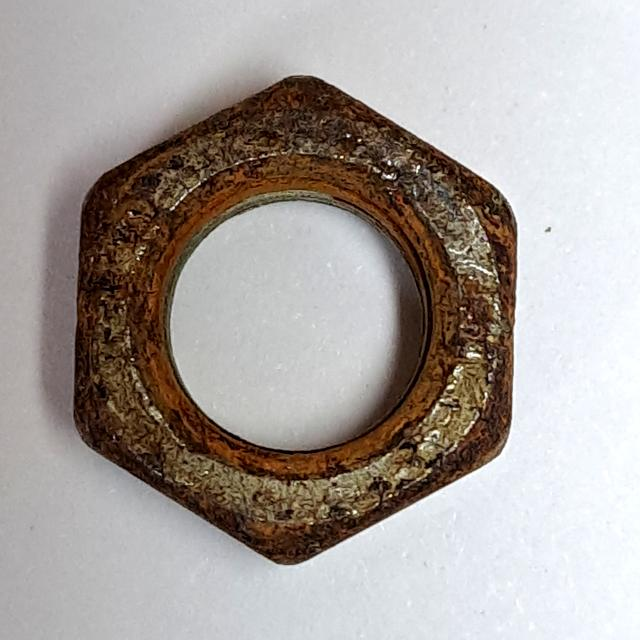Rust: (55, 62, 530, 580)
